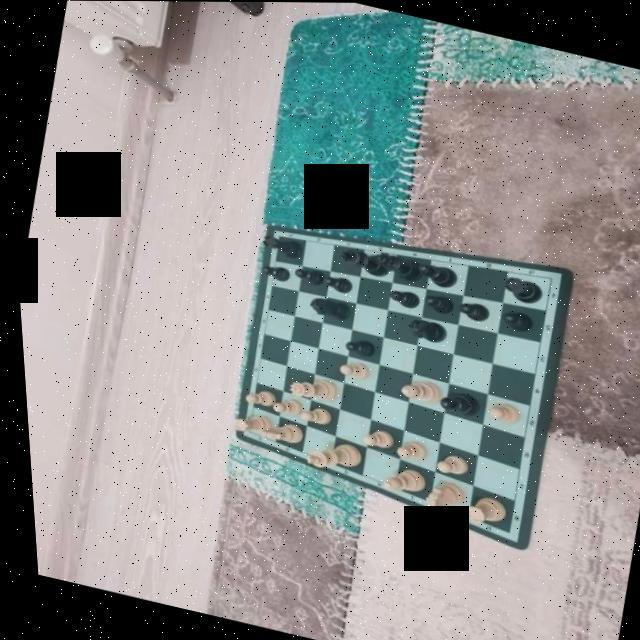chess-table-corners: (539, 272, 553, 284), (235, 425, 248, 437), (494, 527, 507, 537), (270, 230, 282, 240)
